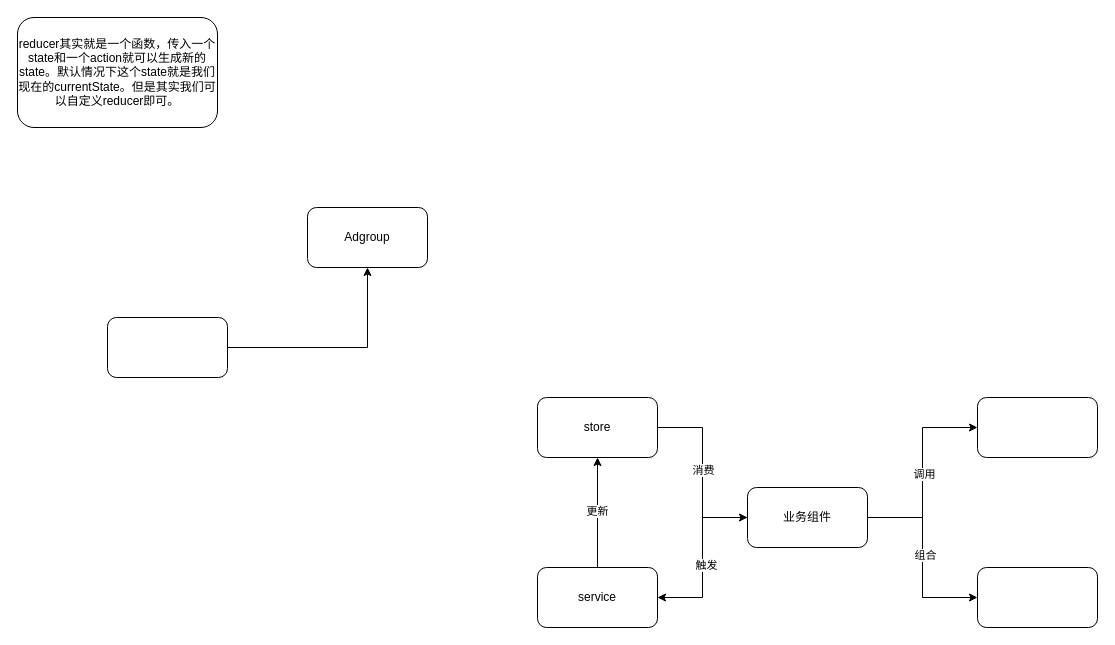
The diagram is 1115 pixels wide and 645 high, and some of its shapes have lost their labels. Here are the shapes that lost their labels. From the top down, the centre of each, then its label:
At (x=167, y=347): "rootState".
At (x=1037, y=427): "公用hooks".
At (x=1037, y=597): "UI组件".
